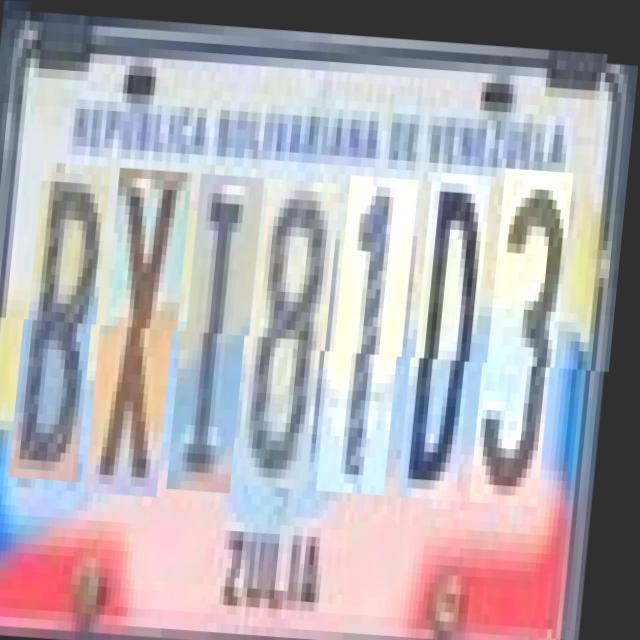1: (331, 170, 422, 488)
3: (483, 160, 576, 498)
8: (249, 174, 344, 484)
B: (23, 162, 114, 480)
D: (411, 165, 494, 493)
I: (180, 170, 268, 490)
X: (99, 166, 196, 494)
